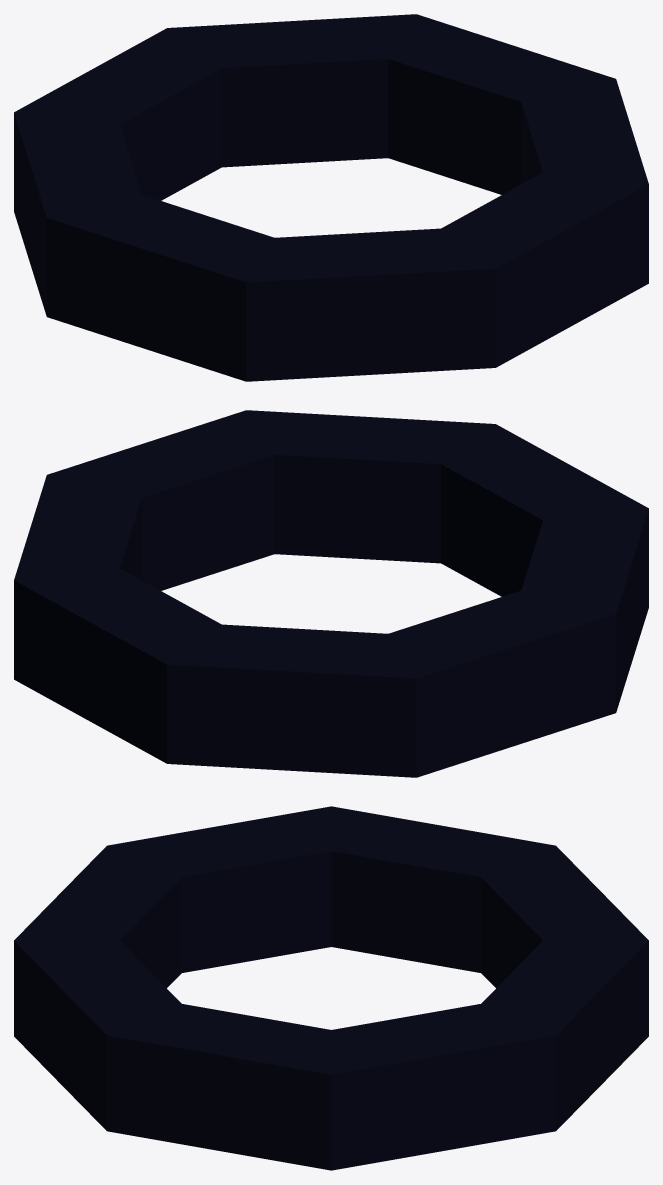
File: tape_roll.obj
The picture shows the model from 3 angles, top to bottom: view 1: azimuth 30°, elevation 25°; view 2: azimuth 150°, elevation 25°; view 3: azimuth 270°, elevation 25°; orthographic projection. The views are drawn at different scales.
Visible parts, largest first — view 1: 円柱.001_円柱.002; view 2: 円柱.001_円柱.002; view 3: 円柱.001_円柱.002.
Boxes of the visible parts, <box> form: 円柱.001_円柱.002: <box>14,14,648,381</box>; 円柱.001_円柱.002: <box>14,410,648,777</box>; 円柱.001_円柱.002: <box>14,806,648,1170</box>.
Size of the model in its own units: 0.15 by 0.025 by 0.15.
